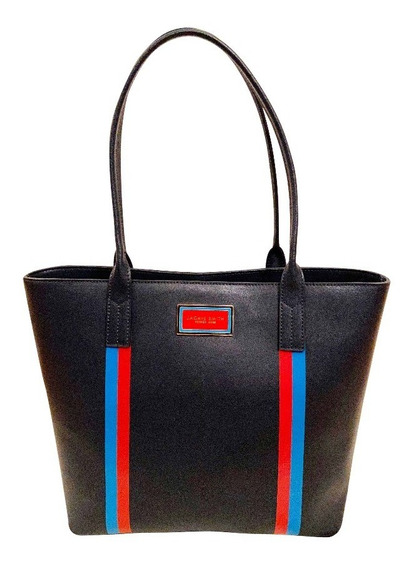cartera: (19, 26, 392, 539)
